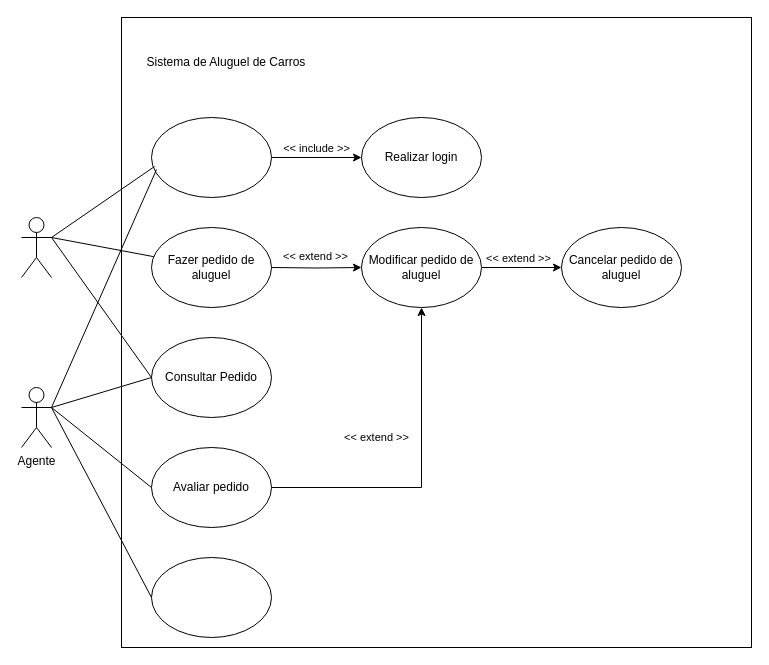
Image size: 769x665. Some labels were removed from this diagram. The box of each missing label's shape, as (x1, y1, x2, y2) in pixels:
Aprovar ou rejeitar pedido: (150, 556, 272, 638)
Cliente: (20, 216, 52, 278)
Realizar cadasto: (150, 116, 272, 198)
